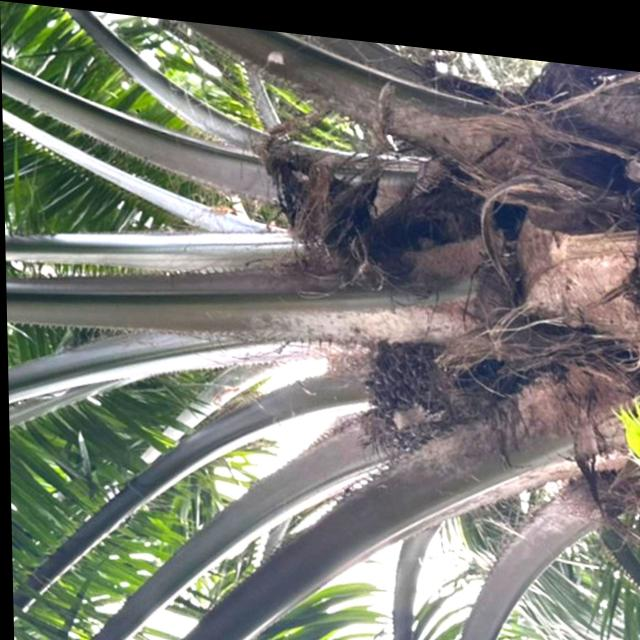ripe: (353, 306, 459, 463)
